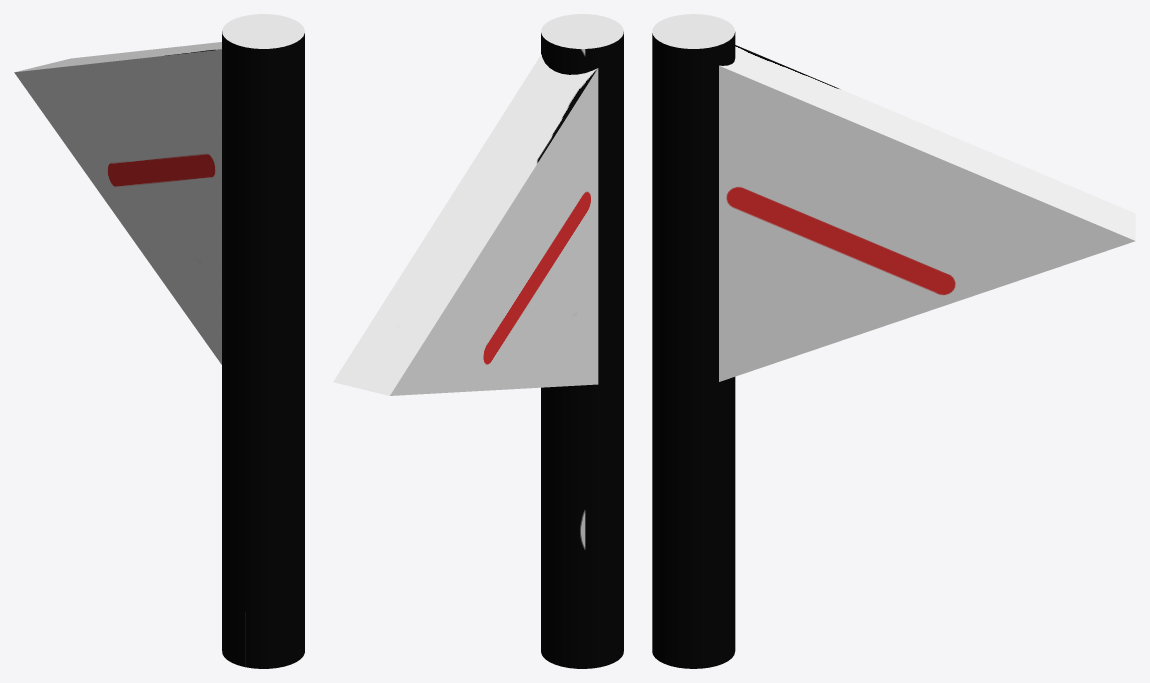
The model's file is door.obj.
3 renders of one model, left to right at view 1: azimuth 30°, elevation 25°; view 2: azimuth 150°, elevation 25°; view 3: azimuth 270°, elevation 25°, orthographic.
Visible parts, largest first — view 1: 円柱; view 2: 円柱; view 3: 円柱.
Part boxes in pixels (x1,y1,x2,y2): 円柱: (14, 14, 304, 668); 円柱: (333, 14, 623, 668); 円柱: (652, 14, 1135, 668).
Bounding box in the file's own units: 0.2559 × 2.11 × 1.49.
